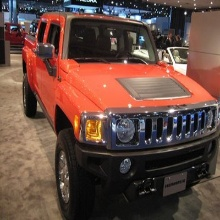no damage: (20, 11, 220, 220)
